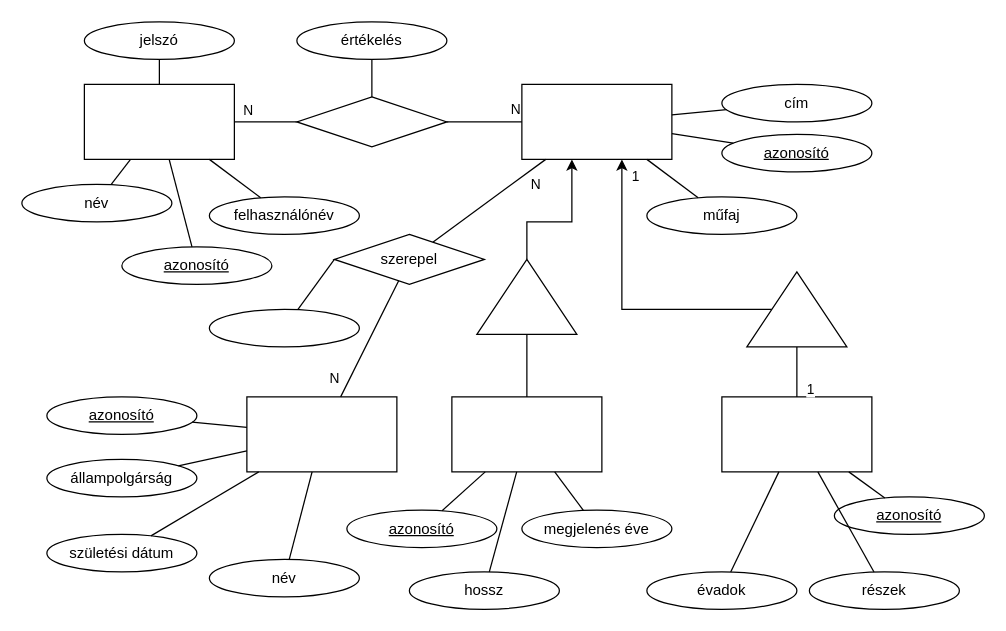
Some shapes in this 1006 by 631 pixel diagram are drawn without their labels. Here are the shapes that lost their labels. From the top down, the centre of each, then its label:
At pixel 158 121: "Felhasználó".
At pixel 371 121: "értékel".
At pixel 596 121: "Média".
At pixel 283 327: "szerep".
At pixel 321 434: "Színész".
At pixel 526 434: "Film".
At pixel 796 434: "Sorozat".
